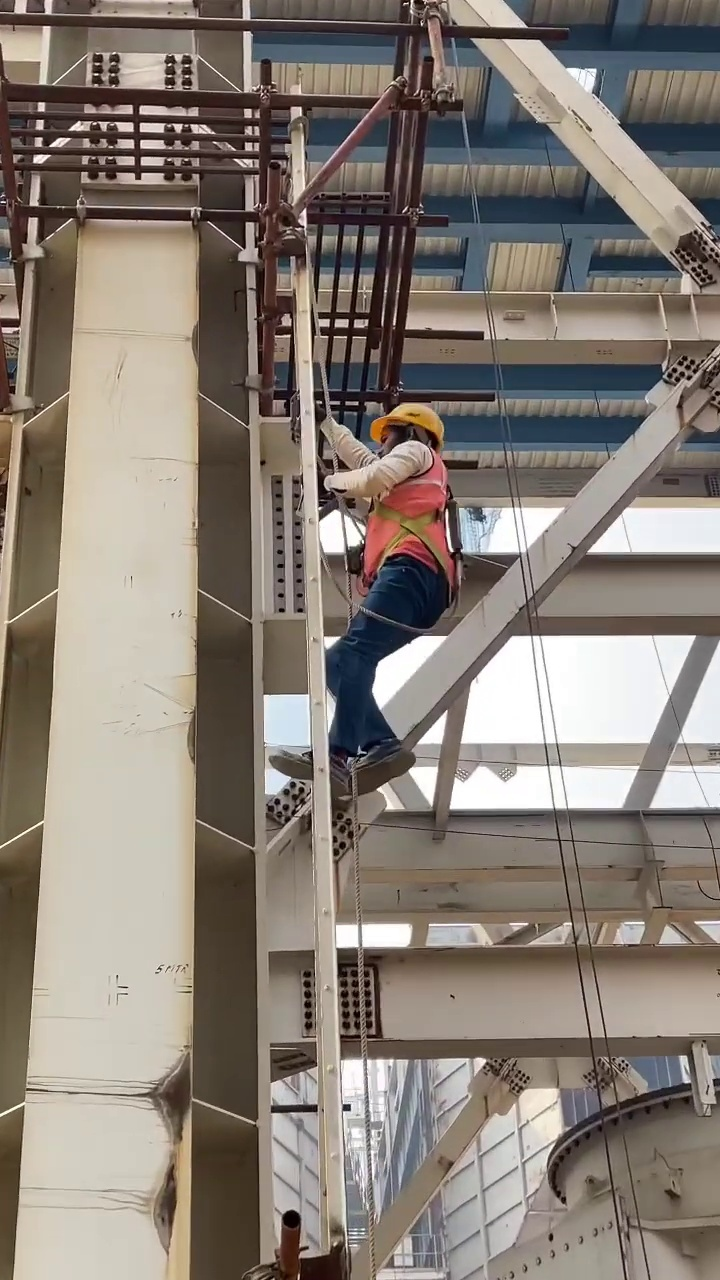Helmet: (374, 406, 448, 445)
Person: (276, 407, 462, 797)
Safety_Harness: (341, 452, 461, 637)
Safety_shoes: (270, 748, 353, 796), (350, 743, 415, 794)
